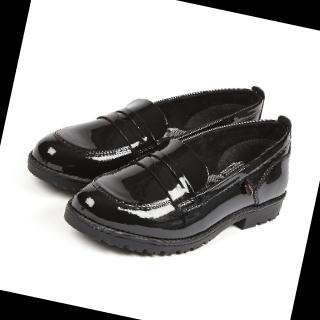loafers: (8, 35, 312, 288)
